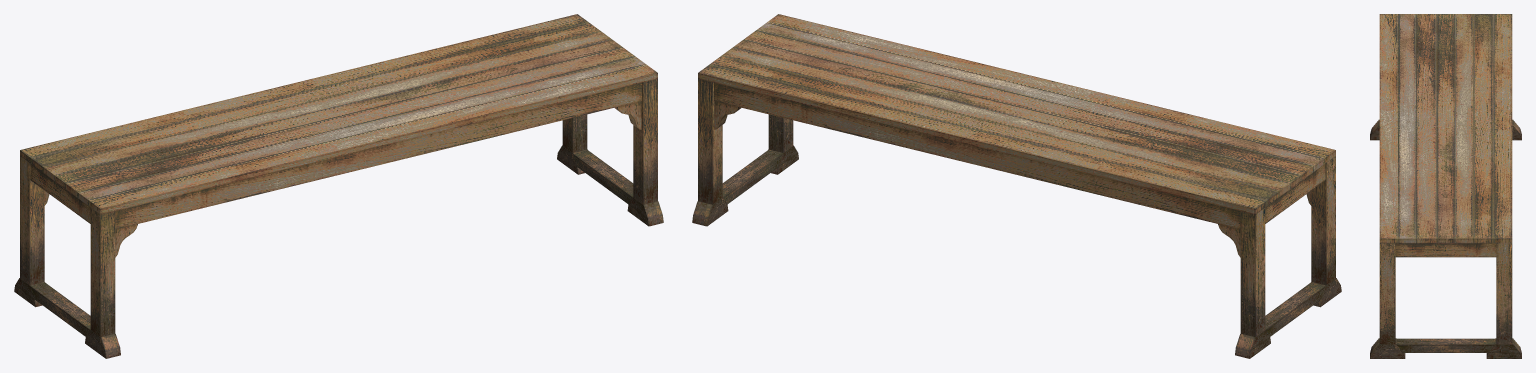
File: 079_Bench.fbx
3 renders of one model, left to right at view 1: azimuth 30°, elevation 25°; view 2: azimuth 150°, elevation 25°; view 3: azimuth 270°, elevation 25°, orthographic. The views are drawn at different scales.
Visible parts, largest first — view 1: LOD_1_Group_0_Sub_1__sm30_079_Bench01A_A_Mat; view 2: LOD_1_Group_0_Sub_1__sm30_079_Bench01A_A_Mat; view 3: LOD_1_Group_0_Sub_1__sm30_079_Bench01A_A_Mat.
Boxes of the visible parts, x1,y1,x2,y2 form: LOD_1_Group_0_Sub_1__sm30_079_Bench01A_A_Mat: [14, 14, 663, 358]; LOD_1_Group_0_Sub_1__sm30_079_Bench01A_A_Mat: [692, 14, 1341, 358]; LOD_1_Group_0_Sub_1__sm30_079_Bench01A_A_Mat: [1370, 14, 1521, 358].
Bounding box in the file's own units: 2 × 0.4999 × 0.5712.
